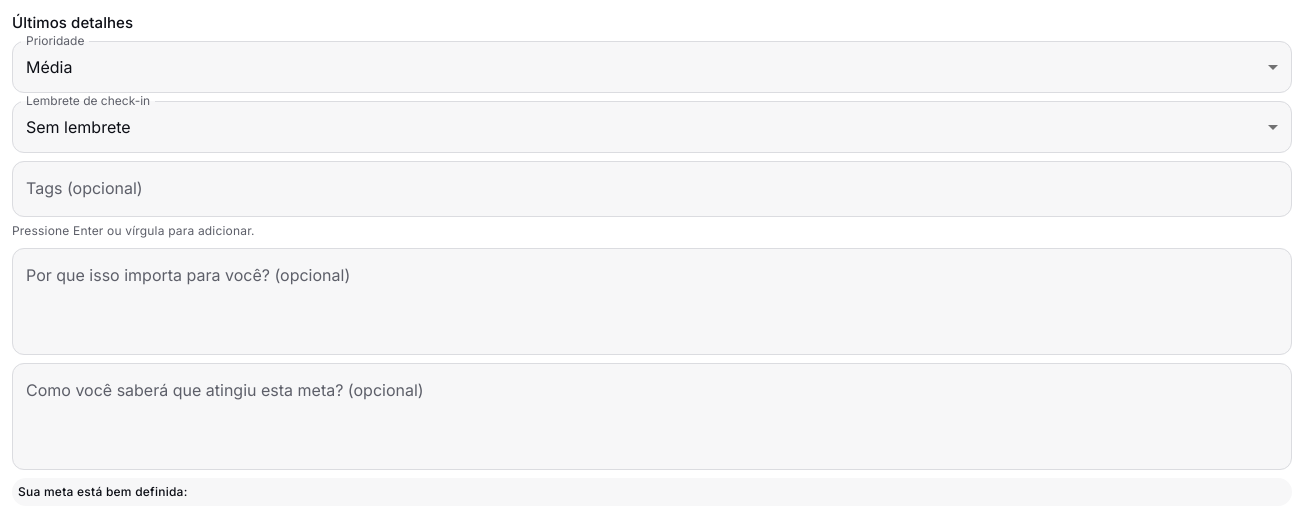
Test case: DetailsStep › keeps a tag typed without Enter when leaving the field, lower-cased
Type "Leitura Diária" into the dropdown labelled "Tags (opcional)".
click(652, 189); type("Leitura Diária")  # box [21,170,1283,208]
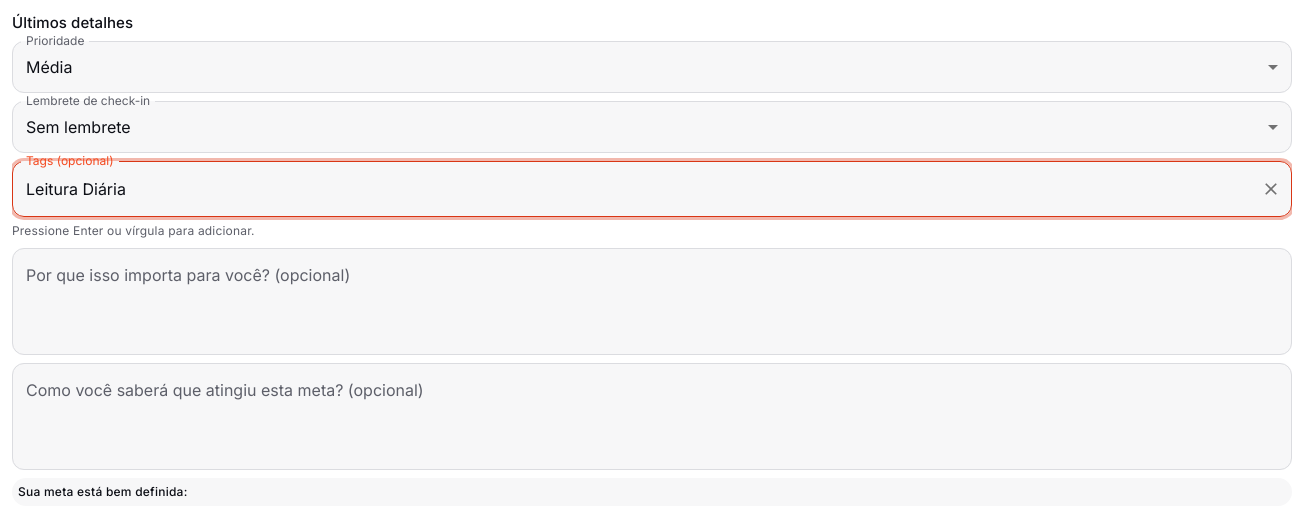
Click the text box labelled "Por que isso importa para você? (opcional)".
click(652, 301)  # box [26,264,1278,338]
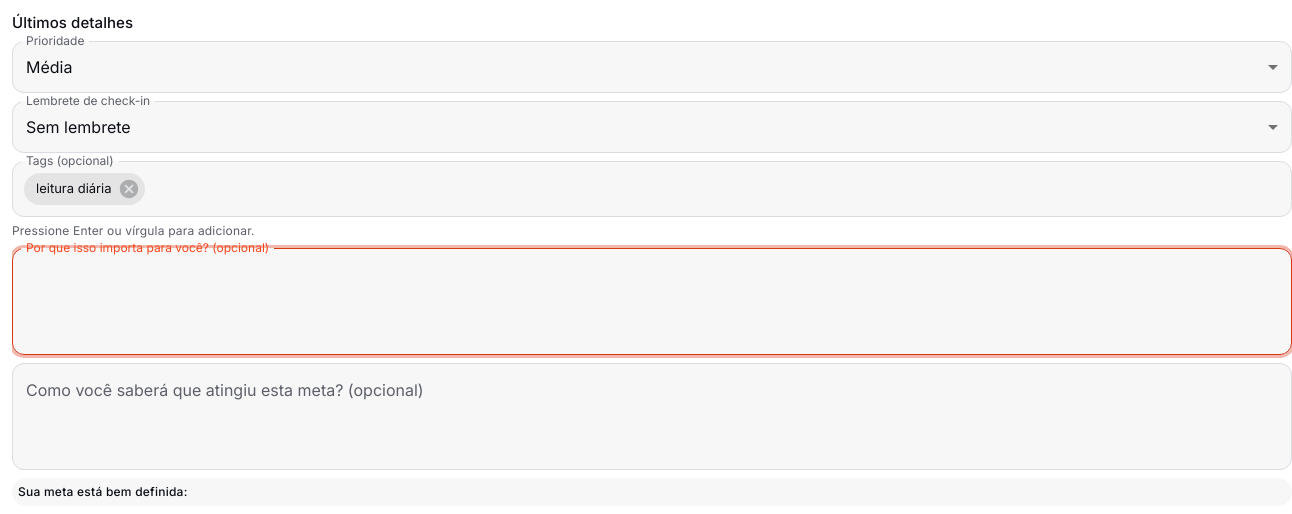
Now the button "leitura diária" is shown, box [24,173,144,205]
